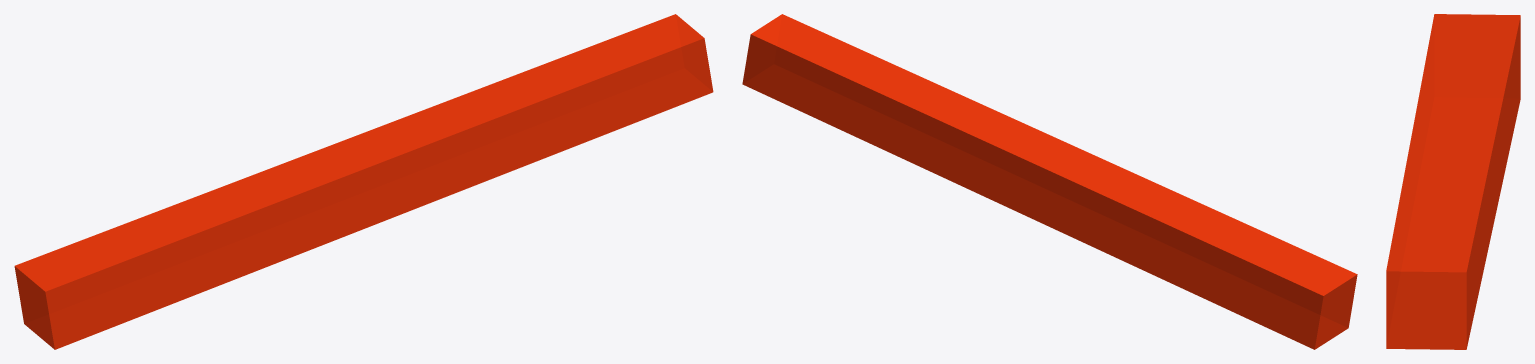
The model's file is Event_420107950_EErechit_31.fbx.
3 views of the same model, side by side, from view 1: azimuth 30°, elevation 25°; view 2: azimuth 150°, elevation 25°; view 3: azimuth 270°, elevation 25° (orthographic). The views are drawn at different scales.
Visible parts, largest first — view 1: Model; view 2: Model; view 3: Model.
Part boxes in pixels (bbox=[...]): Model: bbox=[14, 14, 713, 349]; Model: bbox=[742, 14, 1357, 349]; Model: bbox=[1386, 14, 1520, 349].
Size of the model in its own units: 0.8672 by 0.2189 by 0.1213.
